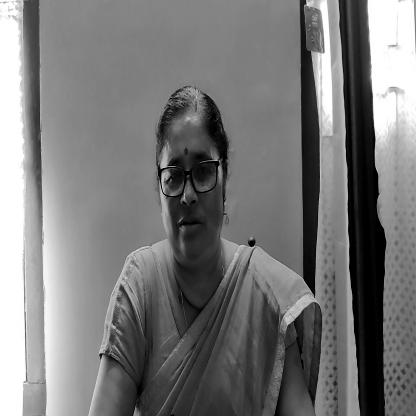Normal: (155, 81, 231, 271)
